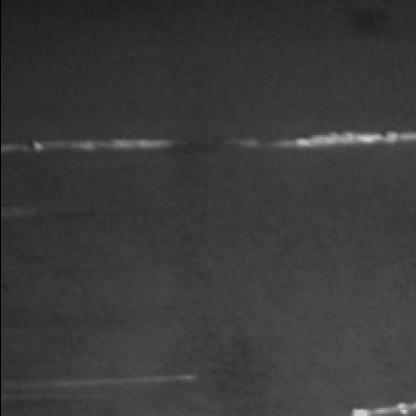scratches: (4, 133, 178, 162), (252, 127, 416, 156)
